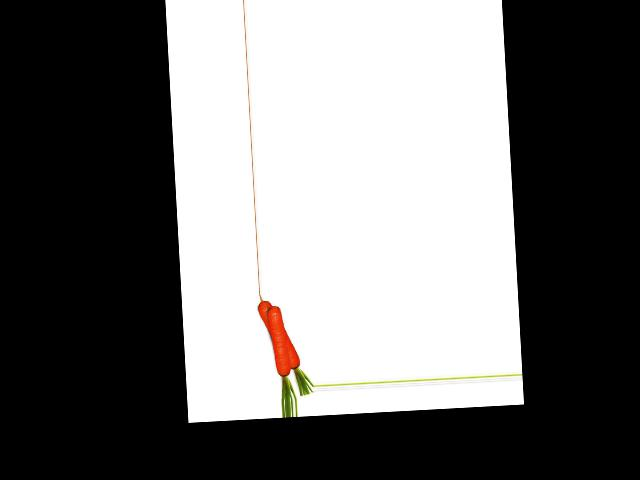carrot: (258, 293, 300, 377)
